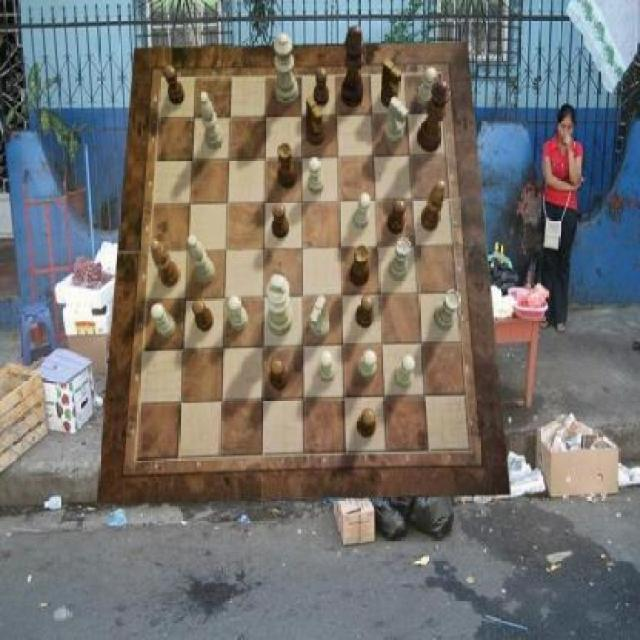bishop: (151, 238, 180, 288), (420, 180, 445, 232)
black-bishop: (342, 25, 366, 107)
black-king: (380, 60, 401, 109), (306, 96, 326, 146)
black-knight: (166, 64, 186, 104), (192, 298, 215, 332), (388, 199, 408, 233), (272, 203, 290, 239), (314, 68, 330, 108), (355, 296, 373, 330), (357, 408, 377, 438), (271, 358, 288, 391)
black-pawn: (417, 78, 450, 152)
black-queen: (277, 143, 297, 189), (351, 245, 371, 287)
black-rook: (200, 91, 224, 149), (188, 236, 215, 284)
white-bishop: (266, 274, 293, 335)
white-king: (384, 97, 408, 145), (309, 296, 330, 340)
white-knight: (152, 303, 177, 338), (417, 68, 437, 106), (228, 295, 248, 330), (396, 356, 416, 390), (354, 192, 371, 230), (308, 157, 324, 195), (319, 351, 336, 383), (359, 351, 376, 378)
white-pawn: (274, 32, 298, 105)
white-queen: (434, 289, 460, 331), (390, 238, 412, 281)
